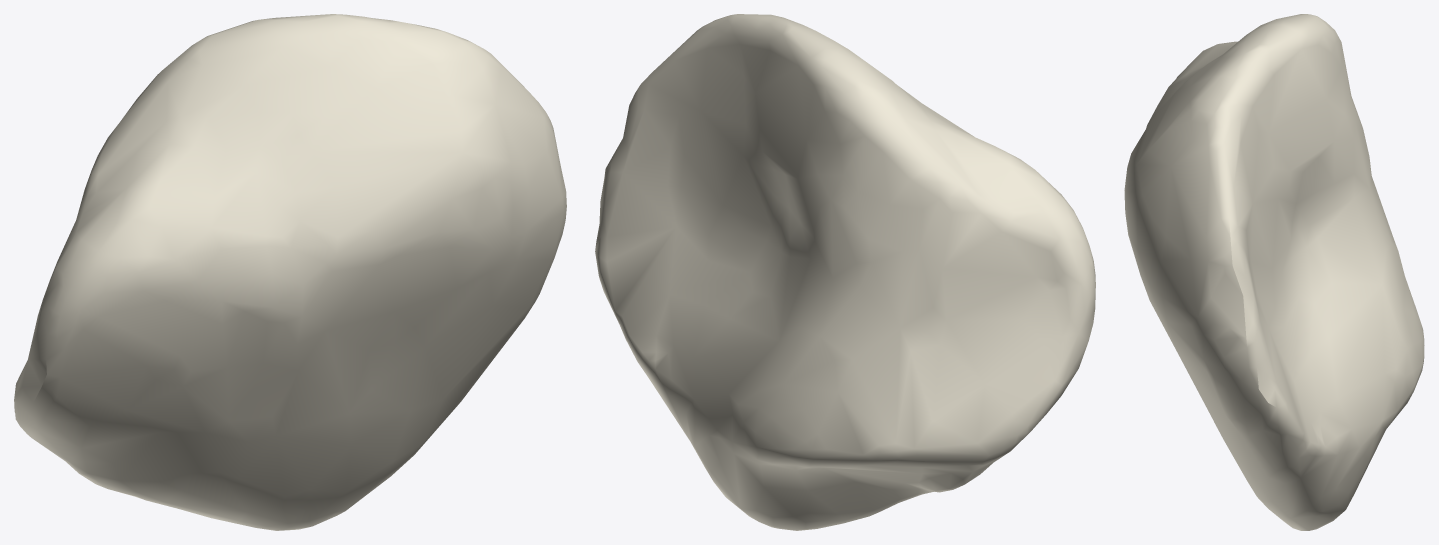
Rendered from fma24487.glb.
The picture shows the model from 3 angles, left to right: view 1: azimuth 30°, elevation 25°; view 2: azimuth 150°, elevation 25°; view 3: azimuth 270°, elevation 25°; orthographic projection. The views are drawn at different scales.
Parts seen in each view (by area): view 1: FMA24487; view 2: FMA24487; view 3: FMA24487.
Boxes of the visible parts, x1,y1,x2,y2 form: FMA24487: (14,14,566,530); FMA24487: (595,14,1095,530); FMA24487: (1124,14,1424,530).
Bounding box in the file's own units: 0.0419 × 0.0397 × 0.0223.
